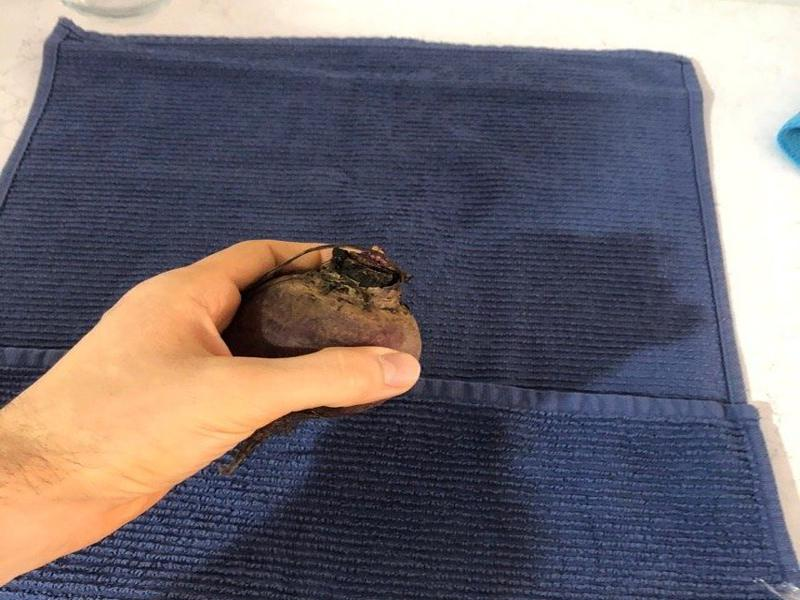Beet: (228, 246, 422, 477)
